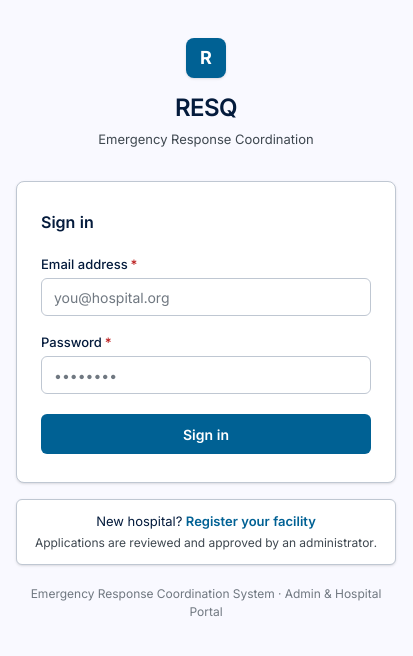
it: LoginPage › shows validation errors when submitting empty form
The image size is (413, 656).
Click the button "Sign in" at {"x": 206, "y": 434}, box 41,414 -> 371,454
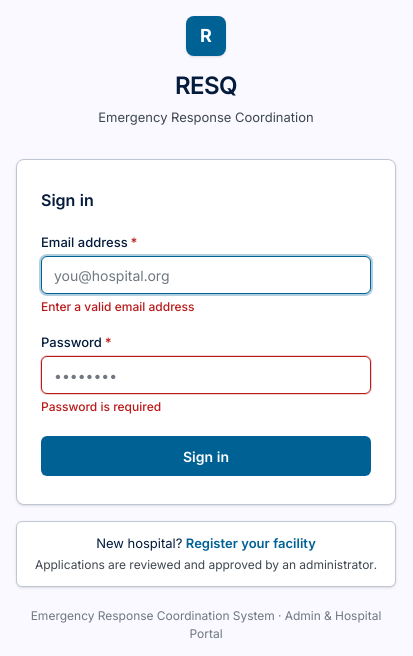
Expected: the text "Enter a valid email address" is shown, 41,299 -> 194,314
Expected: the text "Password is required" is shown, 41,399 -> 161,414
